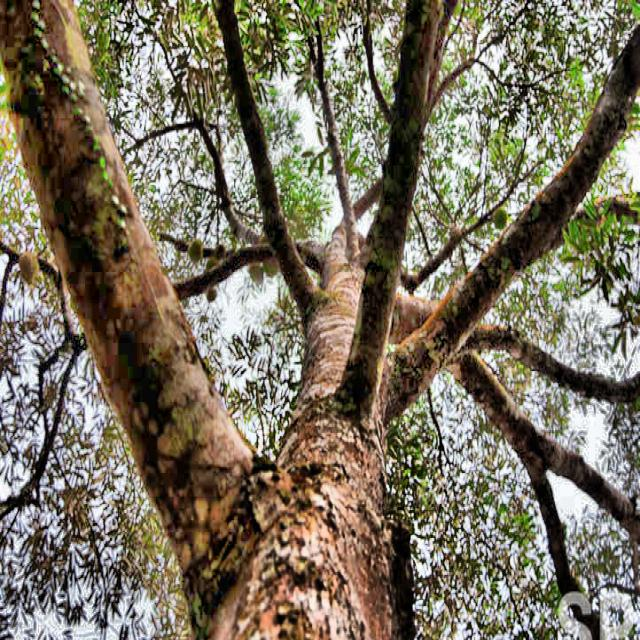arvore: (171, 184, 433, 638)
